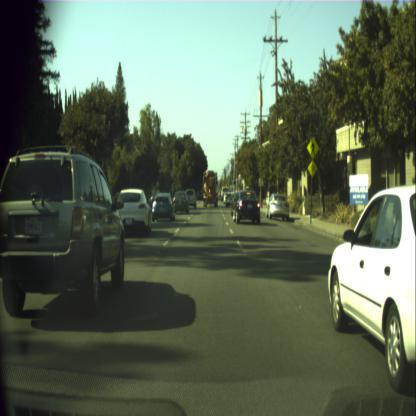off: (233, 181, 236, 184)
